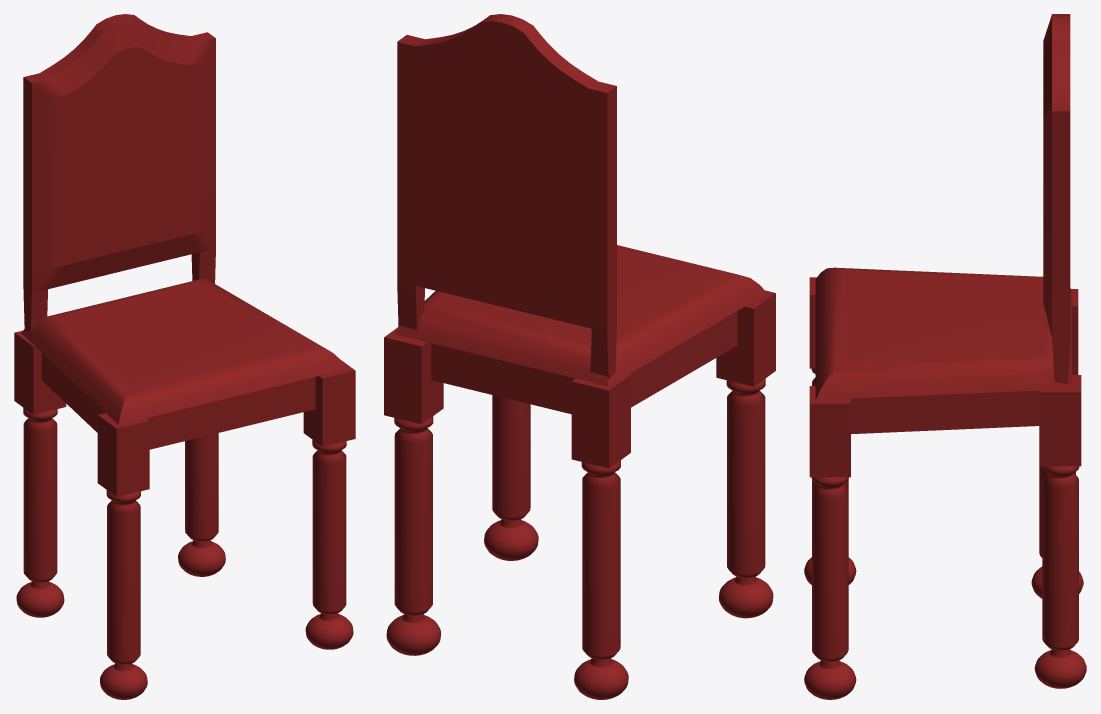
File: Chair.fbx
3 renders of one model, left to right at view 1: azimuth 30°, elevation 25°; view 2: azimuth 150°, elevation 25°; view 3: azimuth 270°, elevation 25°, orthographic. The views are drawn at different scales.
Parts seen in each view (by area): view 1: pCube3, pCube4, pCylinder1 (×4), pCube5 (×3), pSphere1 (×4); view 2: pCube3, pCube4, pCylinder1 (×4), pCube5 (×3), pSphere1 (×4); view 3: pCube4, pCylinder1 (×2), pCube3, pCube5 (×4), pSphere1 (×2).
Part boxes in pixels (bbox=[...]): pCube3: bbox=[23, 14, 215, 332]; pCube4: bbox=[21, 278, 347, 449]; pCylinder1 (×4): bbox=[23, 408, 346, 671]; pCube5 (×3): bbox=[14, 330, 355, 496]; pSphere1 (×4): bbox=[16, 541, 353, 699]; pCube3: bbox=[397, 14, 616, 379]; pCube4: bbox=[395, 245, 767, 414]; pCylinder1 (×4): bbox=[394, 378, 765, 667]; pCube5 (×3): bbox=[384, 290, 775, 468]; pSphere1 (×4): bbox=[386, 520, 773, 699]; pCube4: bbox=[815, 267, 1071, 434]; pCylinder1 (×2): bbox=[811, 466, 1079, 668]; pCube3: bbox=[1043, 14, 1070, 383]; pCube5 (×4): bbox=[809, 277, 1081, 477]; pSphere1 (×2): bbox=[804, 650, 1086, 699].
Bounding box in the file's own units: 5.49 × 12.19 × 5.02.
